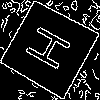H: (24, 23, 81, 77)
